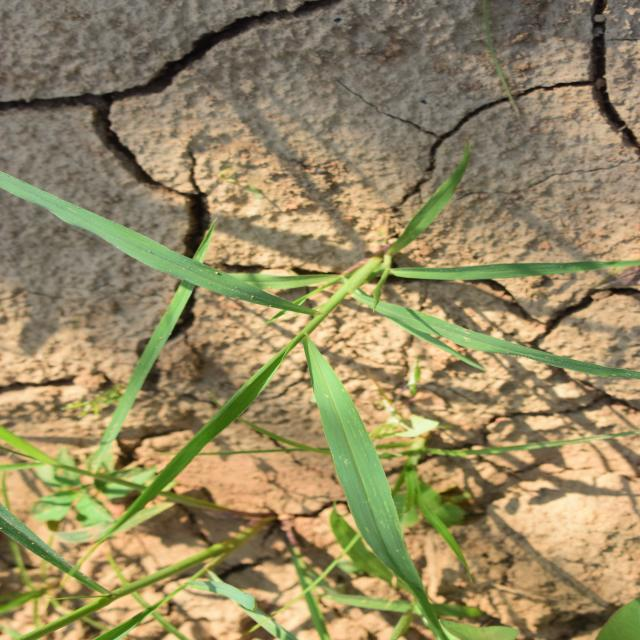green_foxtail: (120, 174, 440, 551)
